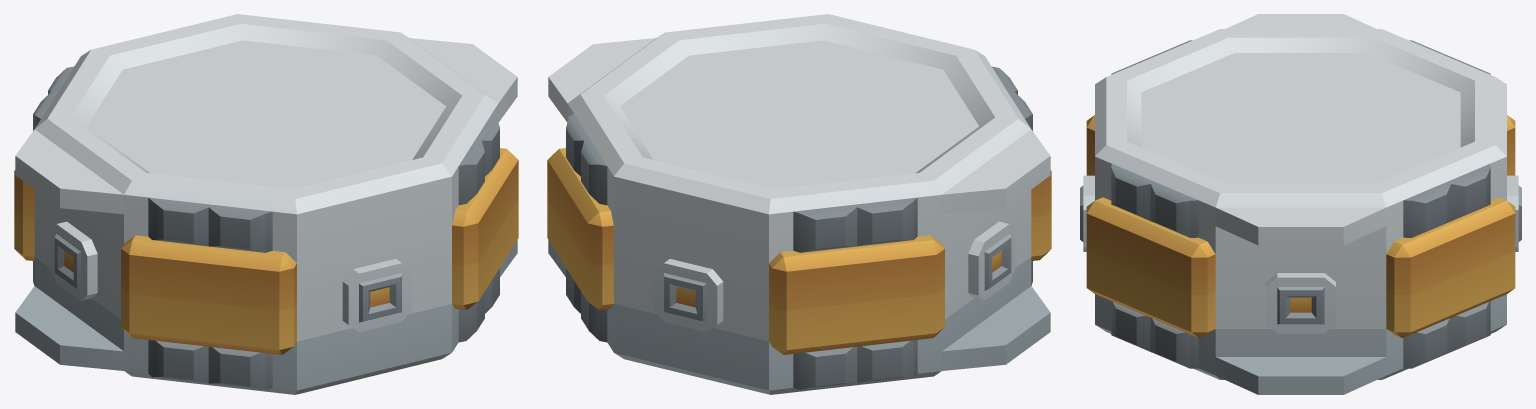
File: basemodule_D.glb
The picture shows the model from 3 angles, left to right: view 1: azimuth 30°, elevation 25°; view 2: azimuth 150°, elevation 25°; view 3: azimuth 270°, elevation 25°; orthographic projection. The views are drawn at different scales.
Visible parts, largest first — view 1: basemodule_D; view 2: basemodule_D; view 3: basemodule_D.
Part boxes in pixels (x1,y1,x2,y2): basemodule_D: (14,14,518,394); basemodule_D: (547,14,1051,394); basemodule_D: (1080,14,1521,394).
Size of the model in its own units: 2.44 by 1 by 2.14.
Materials: 1 (1 with a texture image).
